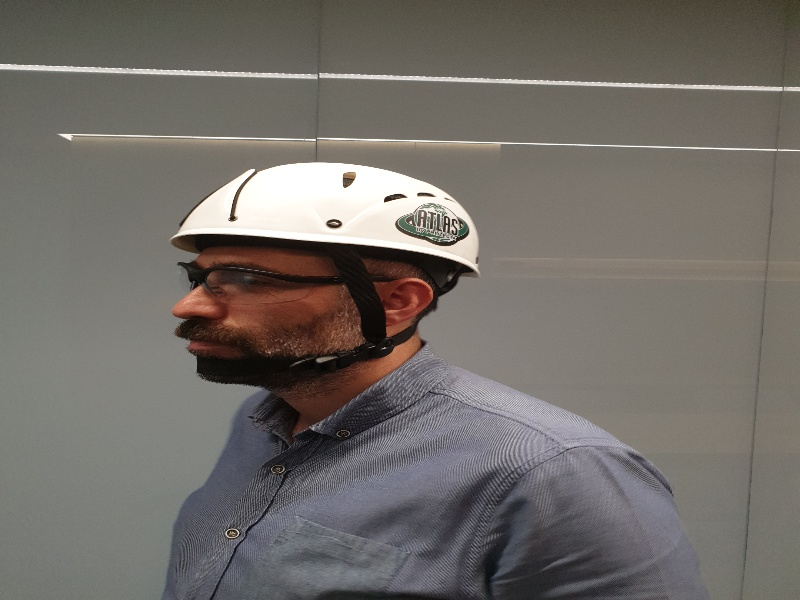Baret: (171, 163, 477, 276)
Gozluk: (178, 260, 393, 301)
